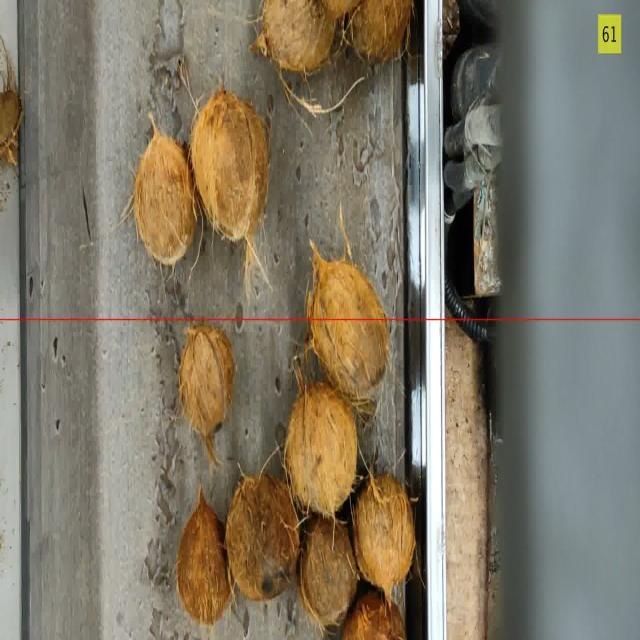Coconut-Conveyor-Belt: (306, 255, 386, 421), (194, 91, 267, 243), (289, 379, 360, 514), (226, 474, 296, 601), (354, 474, 417, 597), (137, 134, 193, 262), (180, 323, 235, 442), (179, 506, 227, 626), (262, 1, 338, 71), (300, 520, 353, 620), (342, 4, 414, 70), (346, 597, 406, 640)
